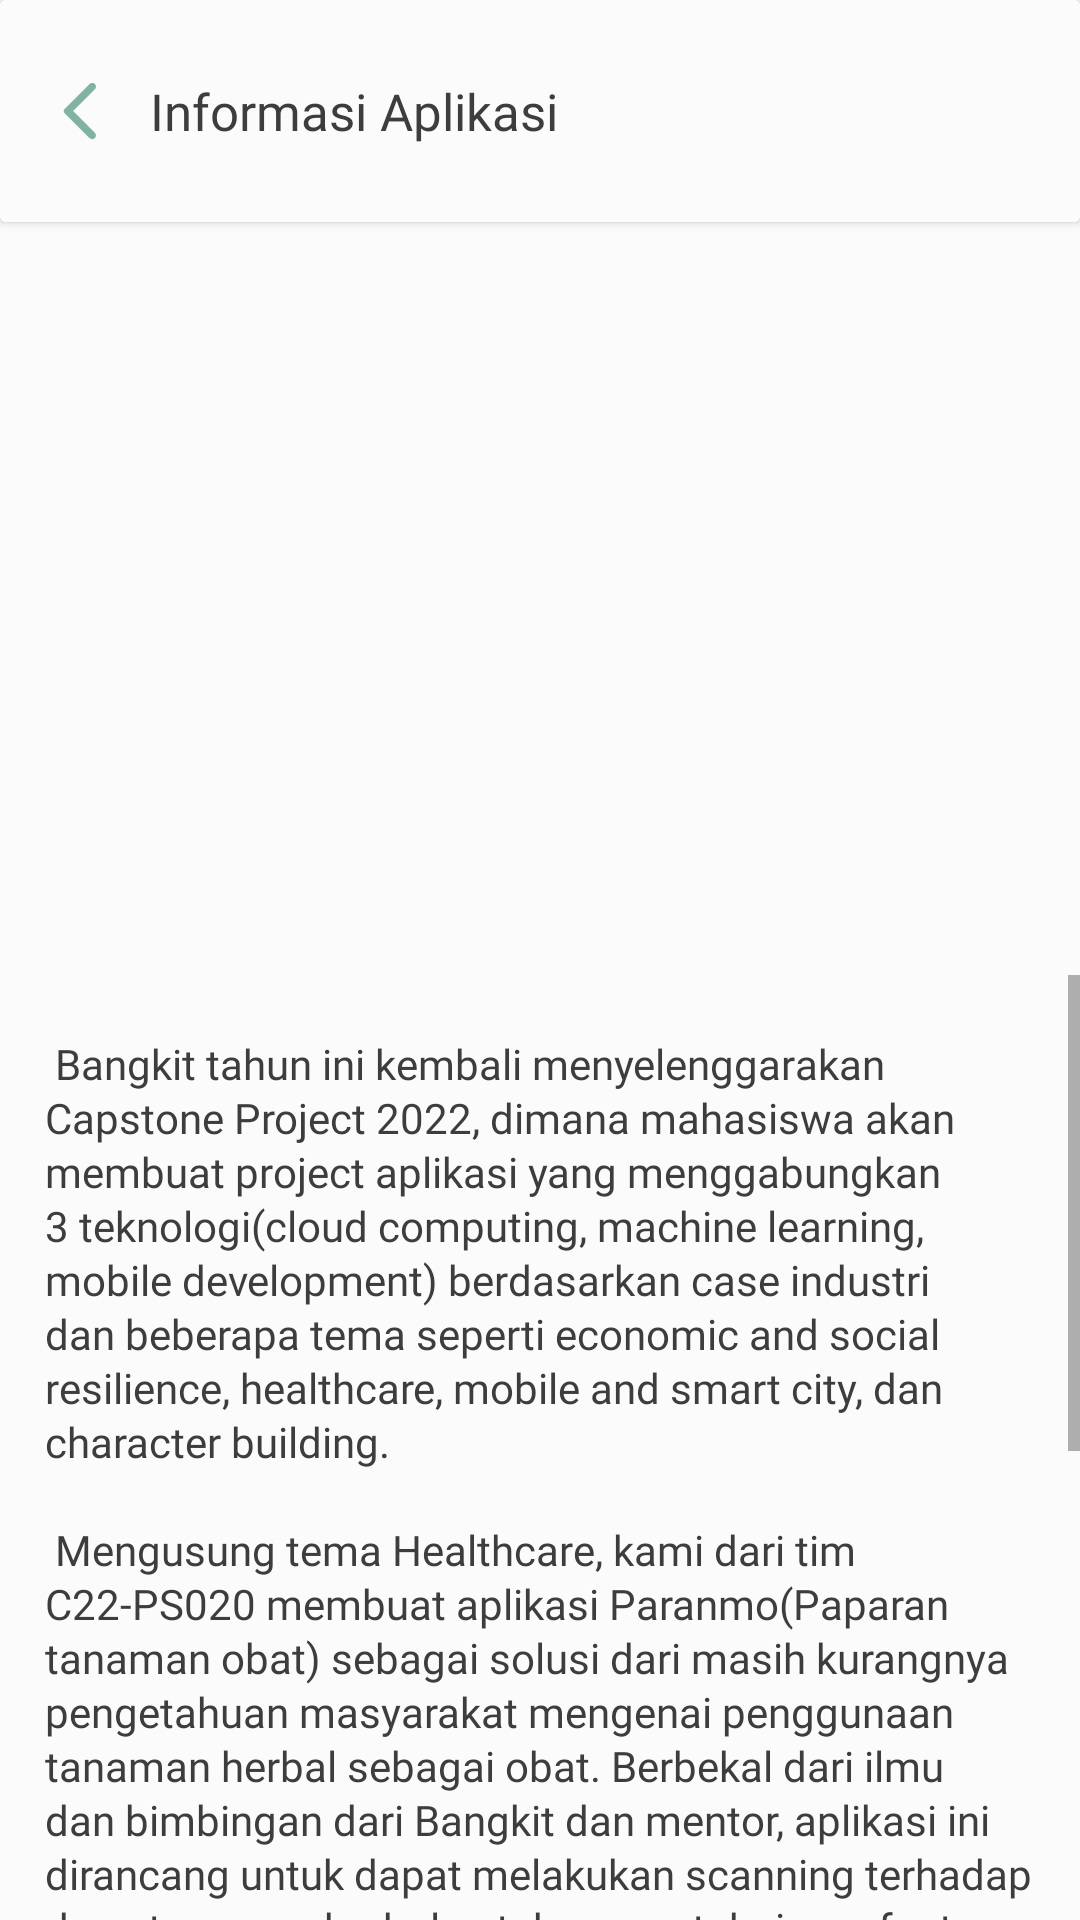

Named icons in this screenshot (1080 x 1920) and their centers, [x,y]:
arrow back: [80,111]
